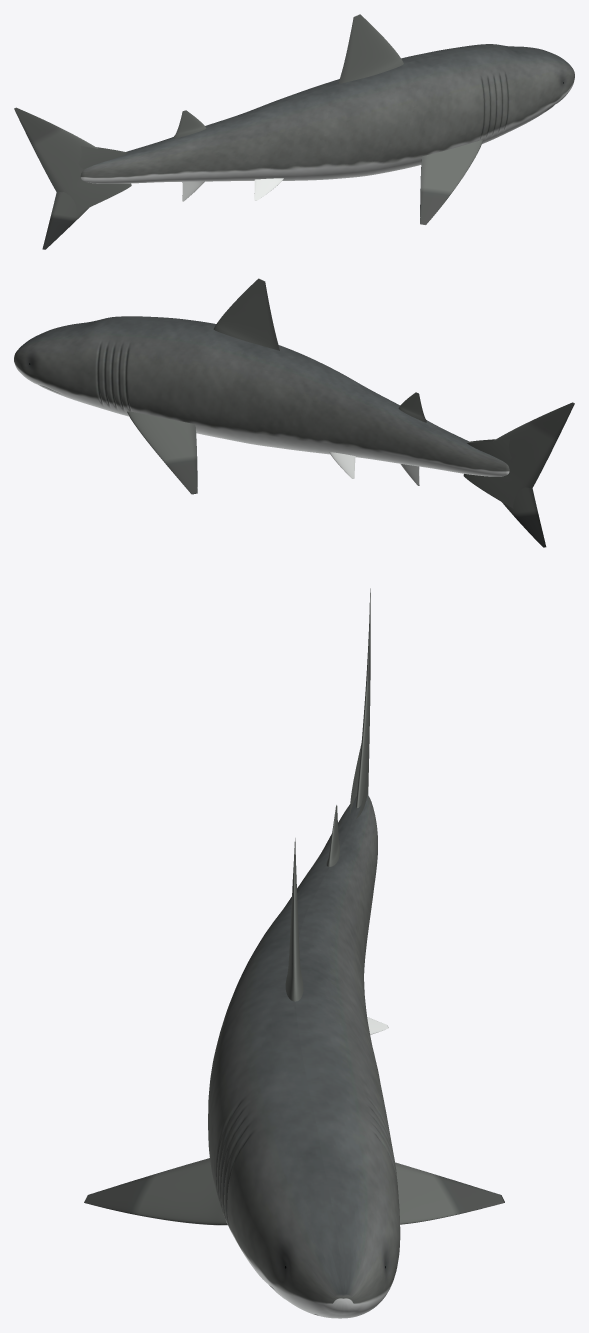
Rendered from dusky_shark.glb.
3 renders of one model, top to bottom at view 1: azimuth 30°, elevation 25°; view 2: azimuth 150°, elevation 25°; view 3: azimuth 270°, elevation 25°, orthographic. The views are drawn at different scales.
Visible parts, largest first — view 1: dusky_shark_Body, dusky_shark_Fins; view 2: dusky_shark_Body, dusky_shark_Fins; view 3: dusky_shark_Body, dusky_shark_Fins.
Part boxes in pixels (<box>): dusky_shark_Body: <box>80,44,574,183</box>; dusky_shark_Fins: <box>14,14,482,249</box>; dusky_shark_Body: <box>14,316,509,476</box>; dusky_shark_Fins: <box>127,278,574,547</box>; dusky_shark_Body: <box>208,794,400,1318</box>; dusky_shark_Fins: <box>84,588,504,1225</box>.
Bounding box in the file's own units: 3.2 × 0.9799 × 1.06.
Materials: 3 (1 with a texture image).
